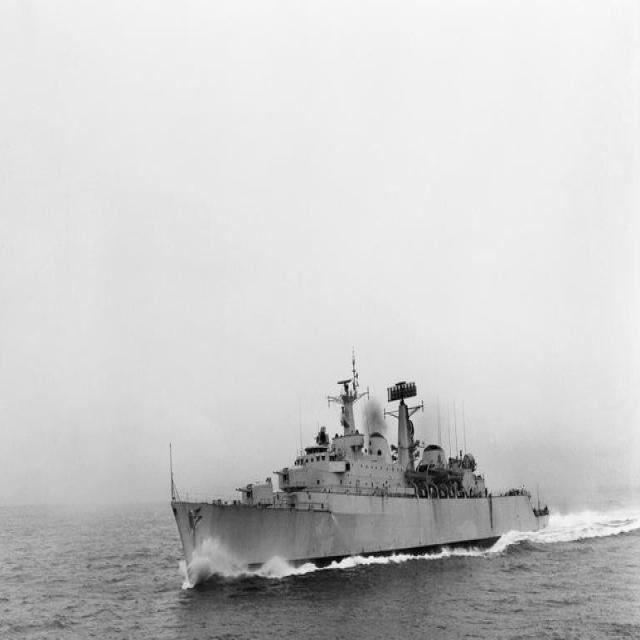navalvessels: (160, 392, 568, 589)
